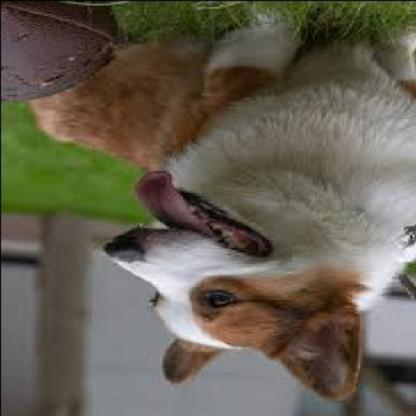dog: (23, 20, 415, 402)
